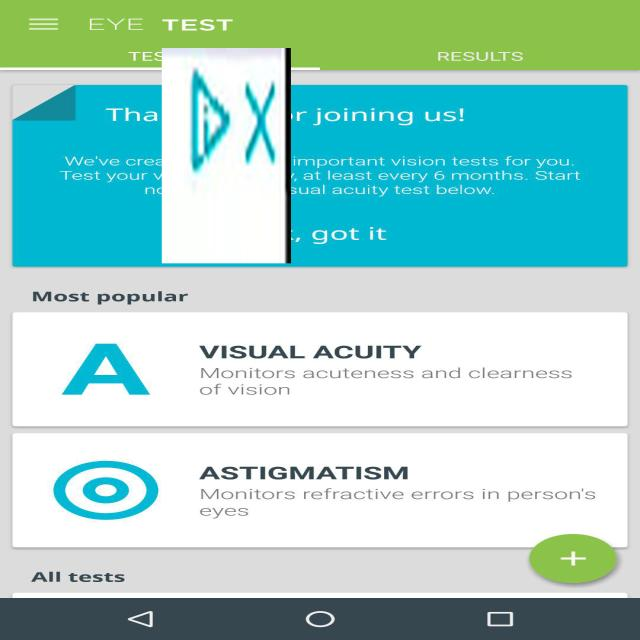sneaking: (162, 48, 291, 263)
